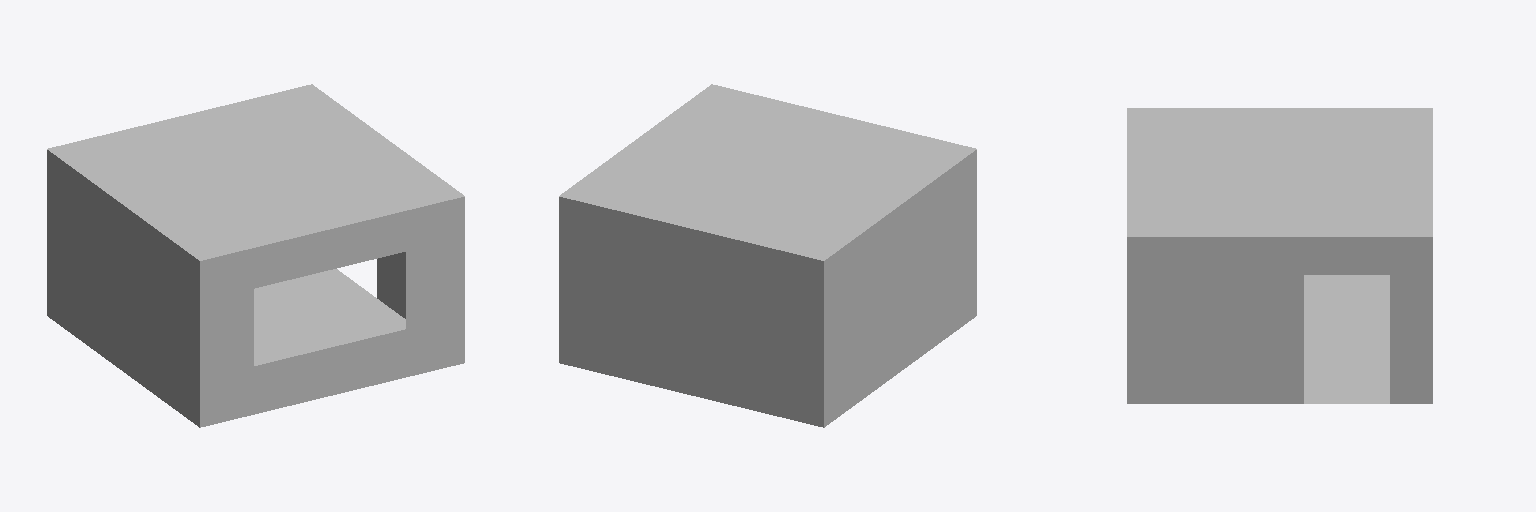
File: baseCozinhateste.obj
The picture shows the model from 3 angles: view 1: azimuth 30°, elevation 25°; view 2: azimuth 150°, elevation 25°; view 3: azimuth 270°, elevation 25°; orthographic projection.
Parts seen in each view (by area): view 1: paredes_parede.001, Cubo.001_Cubo.004; view 2: paredes_parede.001, Cubo.001_Cubo.004; view 3: Cubo.001_Cubo.004, paredes_parede.001.
Part boxes in pixels (x1,y1,x2,y2): paredes_parede.001: (47,150,464,427); Cubo.001_Cubo.004: (47,84,464,365); paredes_parede.001: (559,150,976,427); Cubo.001_Cubo.004: (559,84,976,260); Cubo.001_Cubo.004: (1127,108,1432,403); paredes_parede.001: (1127,237,1432,403).
Bounding box in the file's own units: 10 × 6 × 10.